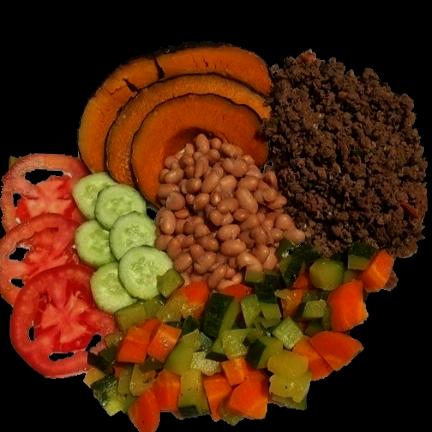beans: (154, 135, 303, 288)
carrot: (293, 250, 393, 380), (205, 357, 269, 419)
cucumber: (73, 173, 172, 313)
green_vegetables: (204, 292, 282, 368), (295, 300, 327, 335)
meat: (263, 50, 428, 258)
tomato: (0, 153, 115, 377)
